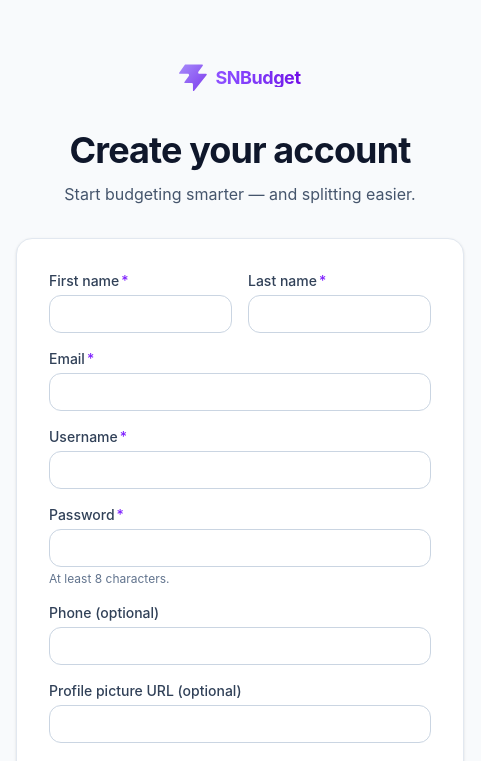
it: SignUp page › renders server-side fieldErrors next to the matching input
The image size is (481, 761).
In the field labelled "First name*": (140, 314) [49, 295, 232, 333], type "Jane"
In the field labelled "Last name*": (340, 314) [248, 295, 431, 333], type "Doe"
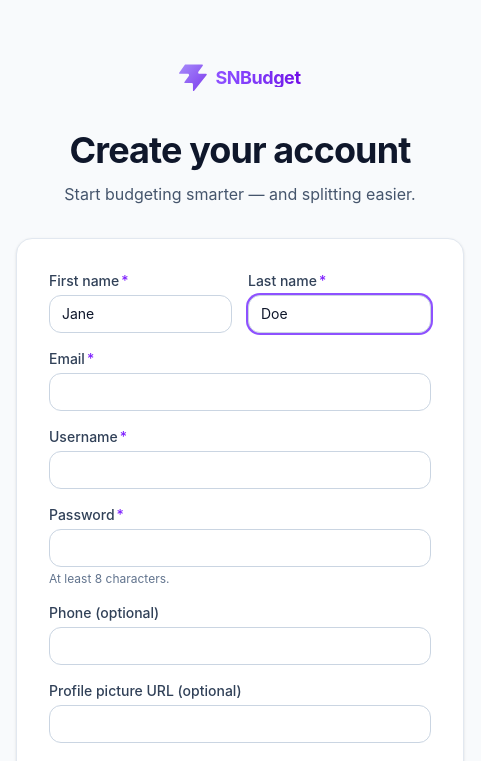
In the field labelled "Email*": (240, 392) [49, 373, 431, 411], type "jane@example.com"
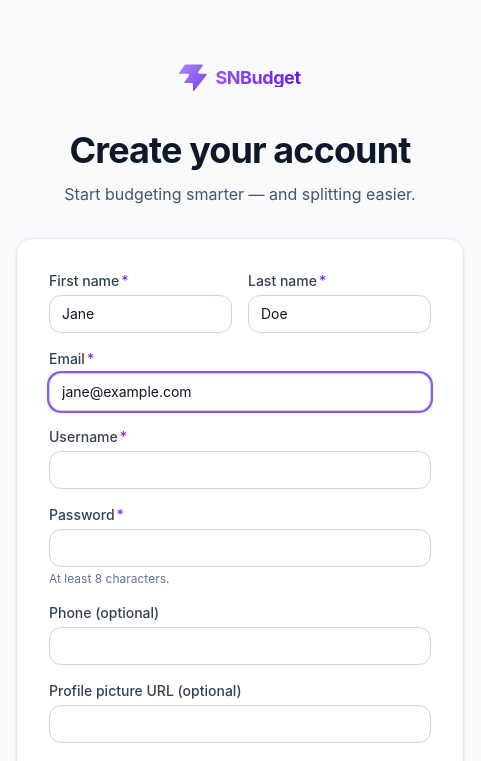
In the field labelled "Username*": (240, 470) [49, 451, 431, 489], type "jane_doe"
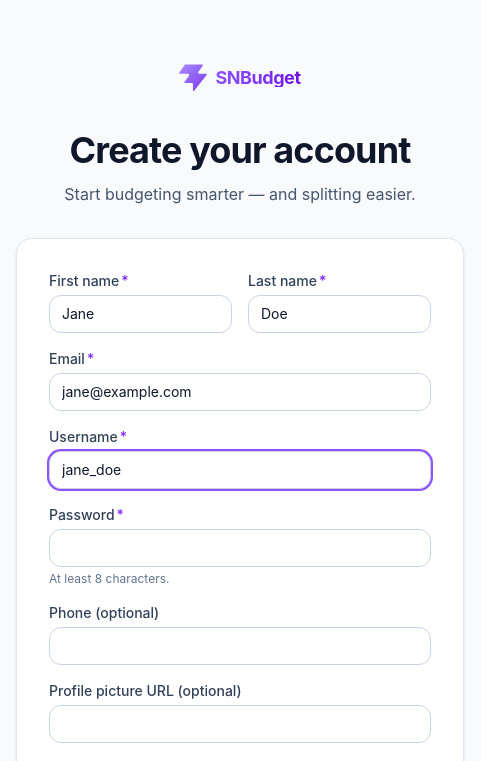
In the password field labelled "Password*": (240, 548) [49, 529, 431, 567], type "hunter222"
(page scrolled)
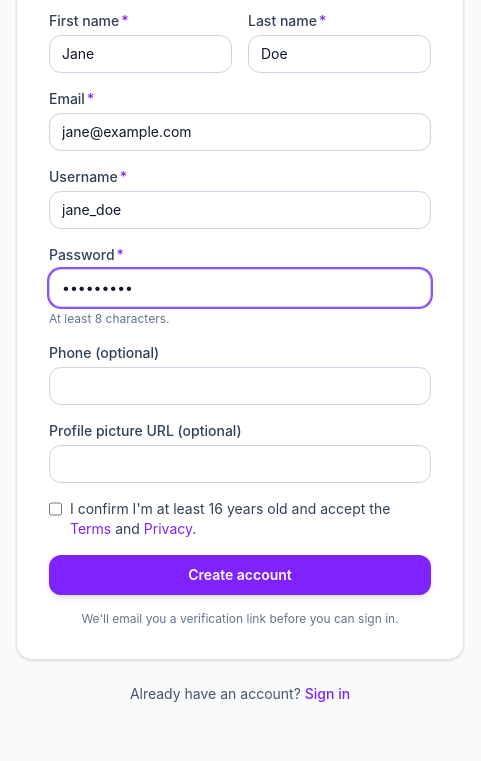
Click the checkbox: (56, 509) [49, 501, 62, 517]
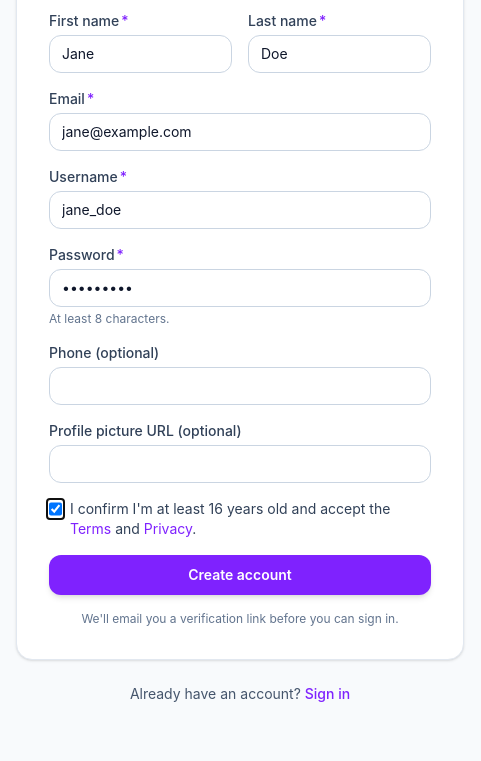
Click the button "Create account": (240, 575) [49, 555, 431, 595]
(page scrolled)
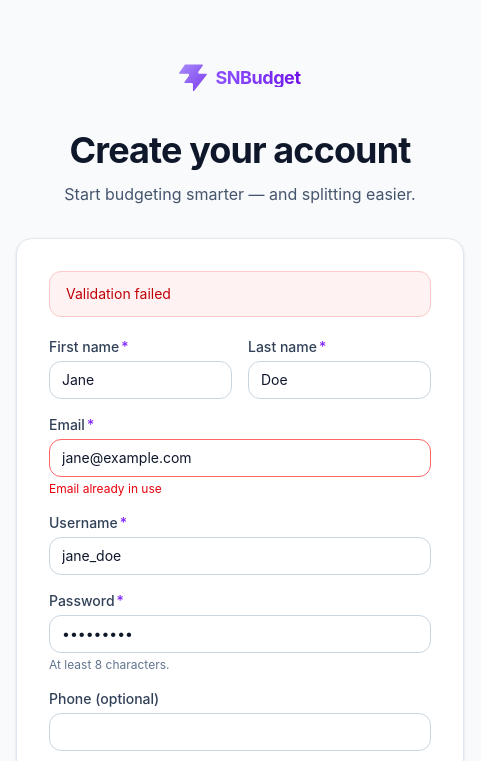
Now the text "Email already in use" is shown, box [49, 481, 162, 496]
Now the message reads "Validation failed", box [66, 285, 171, 302]
